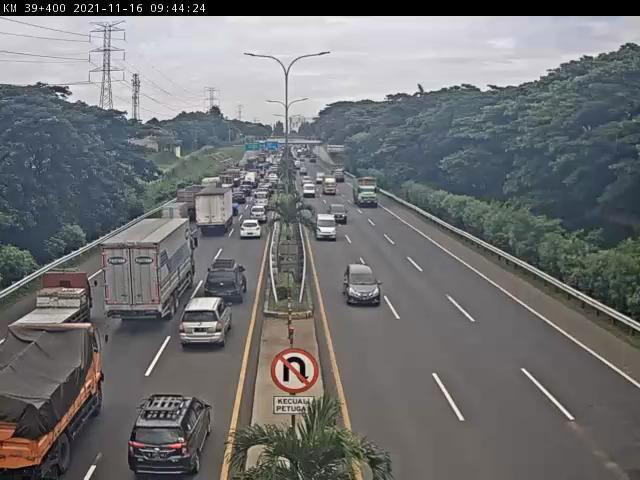car: (122, 388, 210, 478), (177, 295, 233, 351), (204, 259, 251, 305), (343, 264, 384, 307), (317, 213, 339, 242), (240, 219, 263, 241), (330, 205, 349, 226), (254, 207, 269, 224), (255, 193, 272, 207), (302, 185, 318, 199), (317, 172, 327, 183), (301, 177, 313, 186), (301, 169, 310, 178), (296, 161, 303, 170)
truck: (1, 325, 103, 480), (102, 218, 197, 333), (11, 272, 92, 342), (196, 187, 235, 236), (354, 176, 385, 211), (332, 165, 347, 183), (324, 178, 338, 197)
